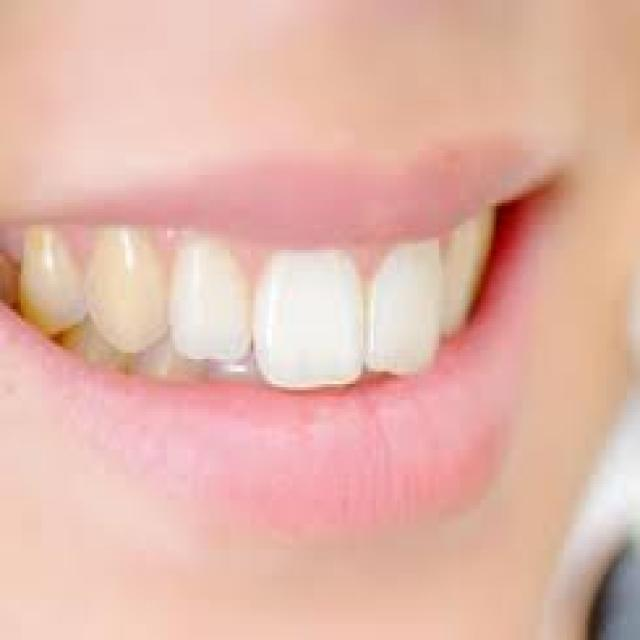tooth: (256, 262, 363, 381), (84, 224, 164, 350), (371, 244, 439, 372), (170, 253, 251, 359), (16, 240, 78, 325), (444, 228, 483, 315)
